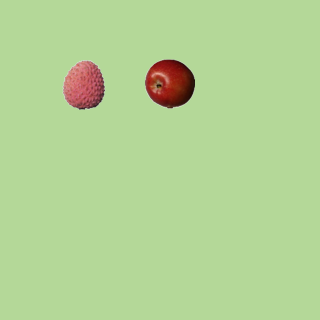Apple Braeburn: (144, 58, 194, 108)
Lychee: (58, 59, 108, 109)
